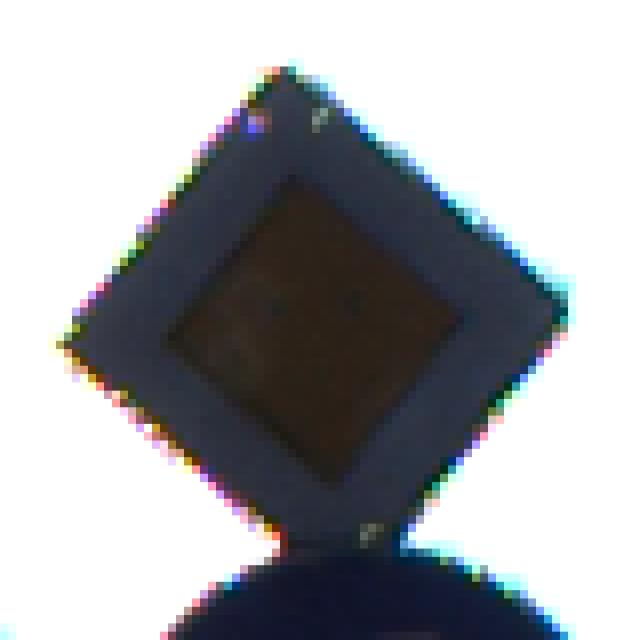Main Road: (57, 59, 585, 591)
